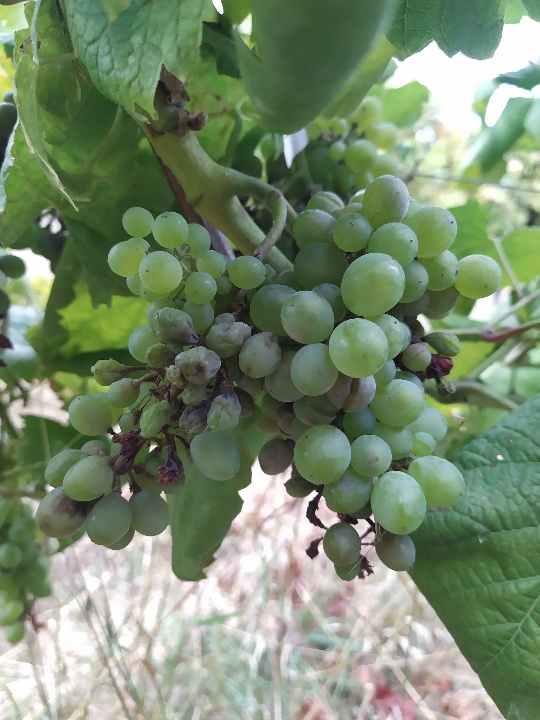grape: (30, 173, 504, 586)
